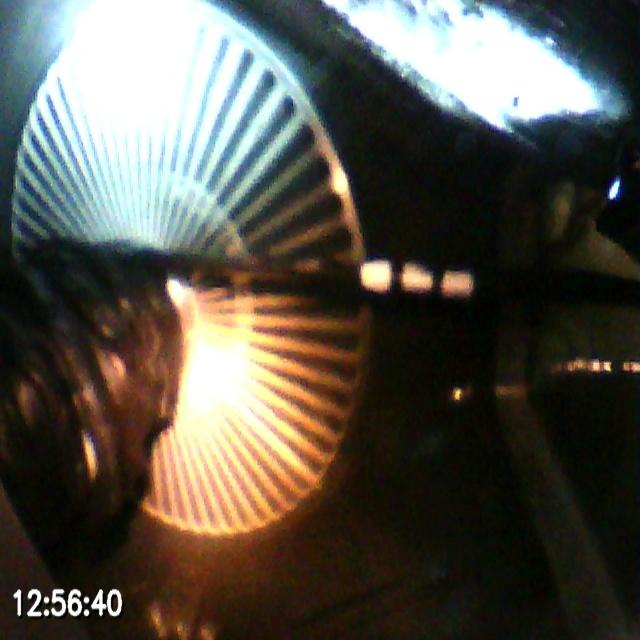white-dots: (359, 258, 474, 298)
